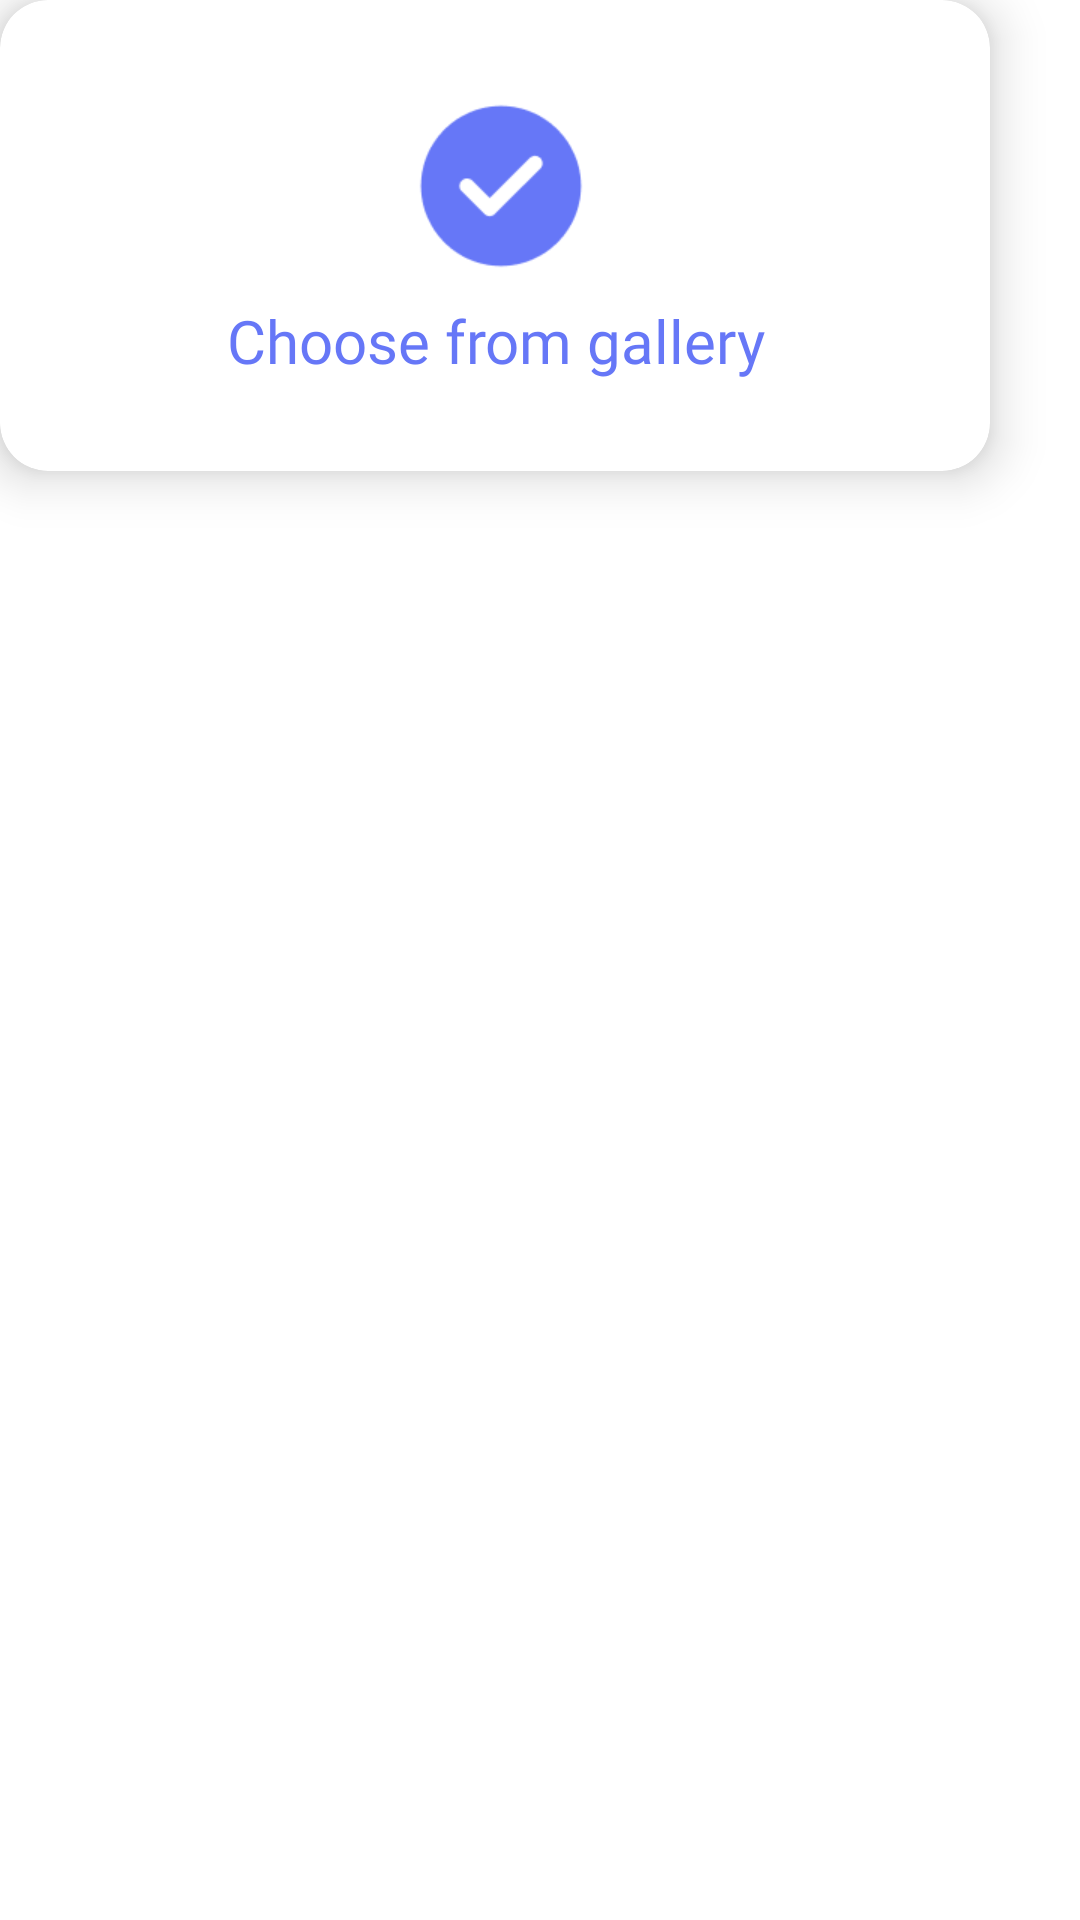

Where icons sit on this 1080*1920 app screen, as (x1, y1, x2, y2):
success tick: (420, 105, 582, 267)
